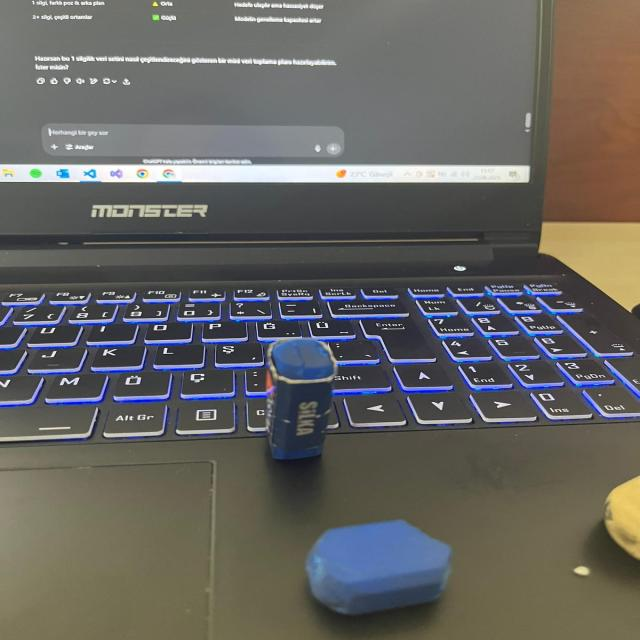eraser: (300, 506, 464, 622), (252, 330, 343, 467)
